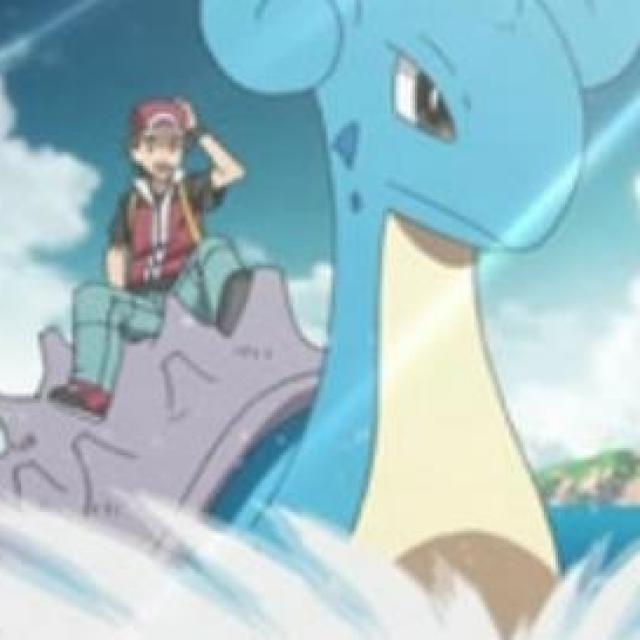Lapras: (0, 0, 572, 635)
